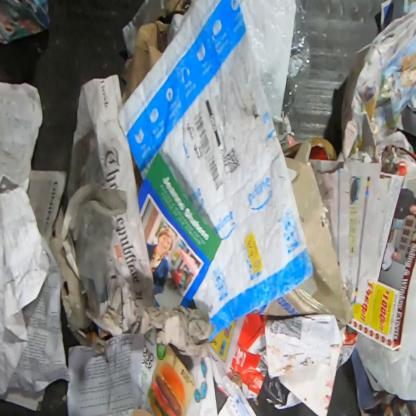cardboard: (120, 0, 192, 105), (209, 313, 268, 400)
soft_plastic: (117, 0, 314, 344), (291, 162, 355, 323), (240, 0, 312, 118)
